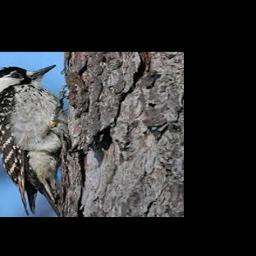Woodpecker: (0, 65, 90, 217)
